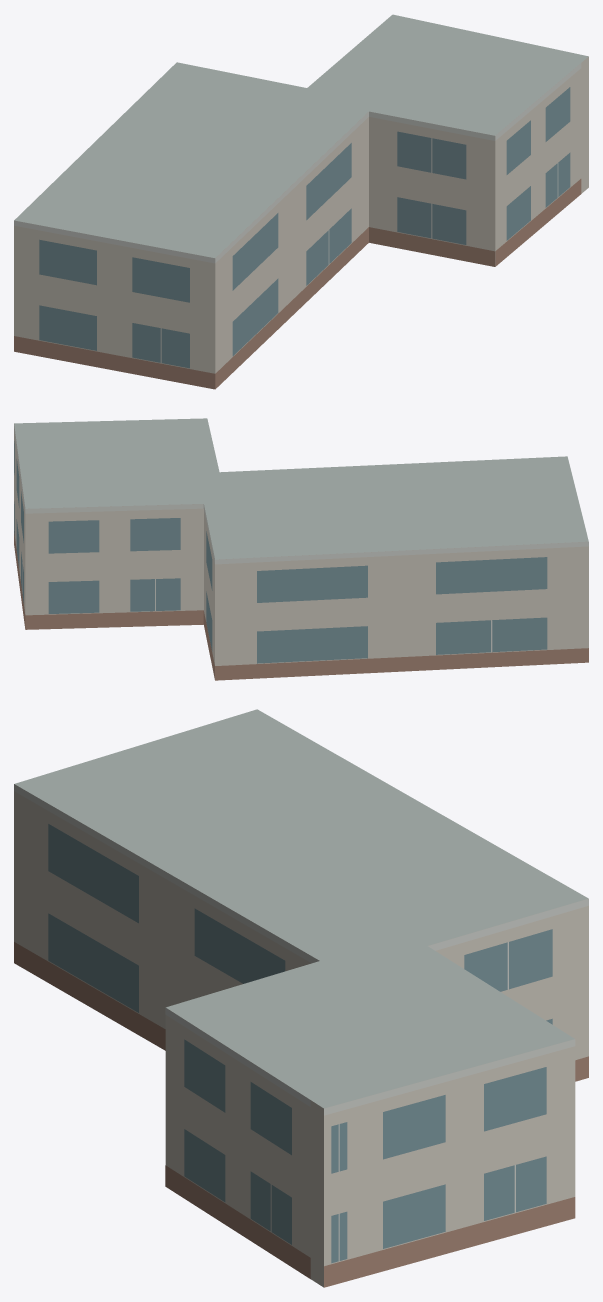
File: survey-upis-32584120.glb
3 views of the same model, one above another, from view 1: azimuth 30°, elevation 25°; view 2: azimuth 150°, elevation 25°; view 3: azimuth 270°, elevation 25° (orthographic). The views are drawn at different scales.
Parts seen in each view (by area): view 1: survey-upis-32584120.tmp; view 2: survey-upis-32584120.tmp; view 3: survey-upis-32584120.tmp.
Boxes of the visible parts, left/top/right/bottom form: survey-upis-32584120.tmp: left=14, top=14, right=588, bottom=389; survey-upis-32584120.tmp: left=14, top=418, right=588, bottom=680; survey-upis-32584120.tmp: left=14, top=709, right=588, bottom=1287.
Size of the model in its own units: 29.16 by 6.1 by 17.74.
